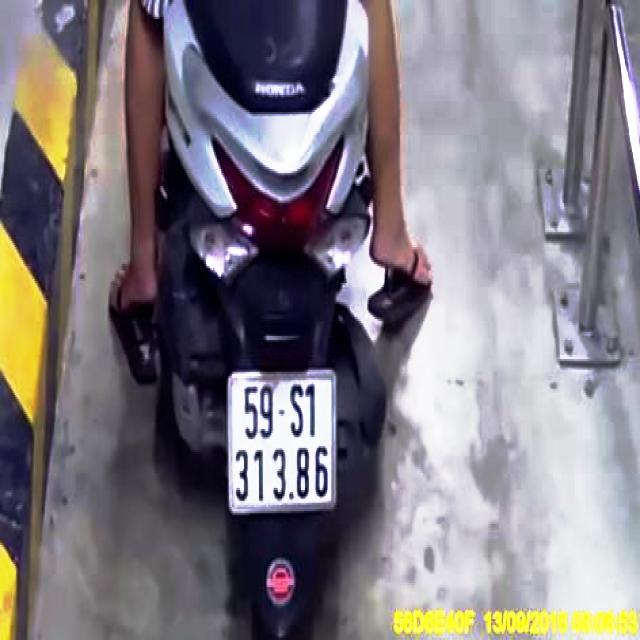license_plate: (230, 372, 338, 515)
